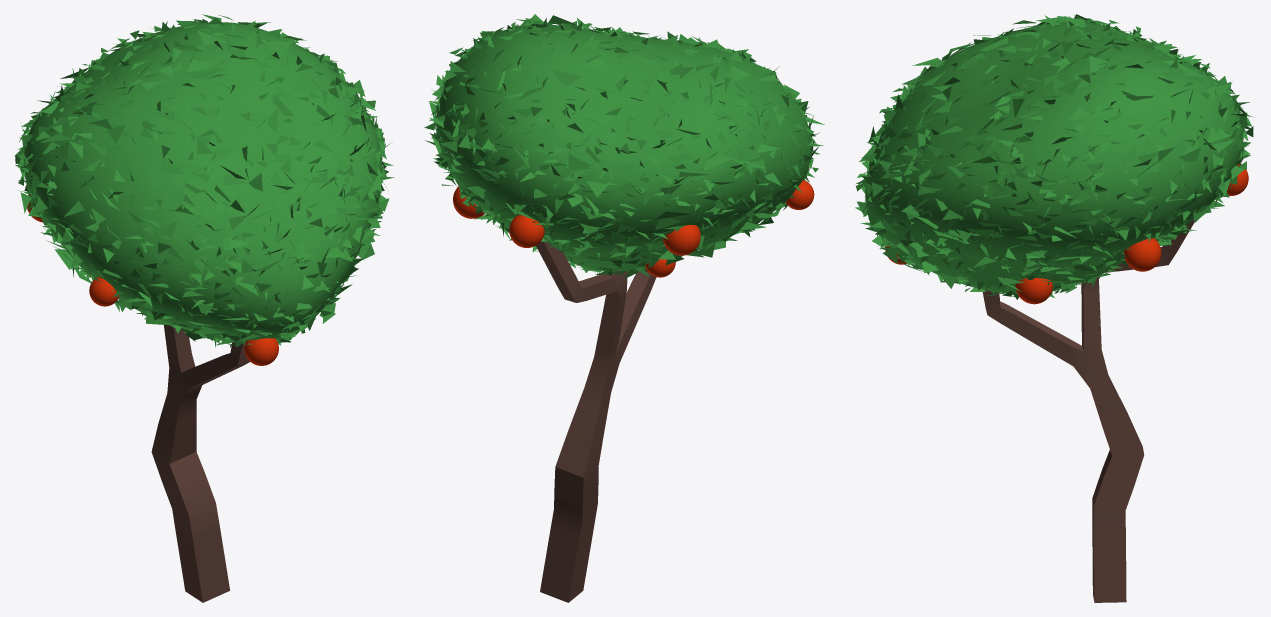
The model's file is AppleTree.fbx.
The picture shows the model from 3 angles, left to right: view 1: azimuth 30°, elevation 25°; view 2: azimuth 150°, elevation 25°; view 3: azimuth 270°, elevation 25°; orthographic projection. The views are drawn at different scales.
Visible parts, largest first — view 1: AppleTree; view 2: AppleTree; view 3: AppleTree.
Boxes of the visible parts, left/top/right/bottom form: AppleTree: left=14, top=14, right=394, bottom=602; AppleTree: left=424, top=14, right=824, bottom=602; AppleTree: left=855, top=14, right=1253, bottom=602.
Size of the model in its own units: 66.86 by 107 by 70.63.
